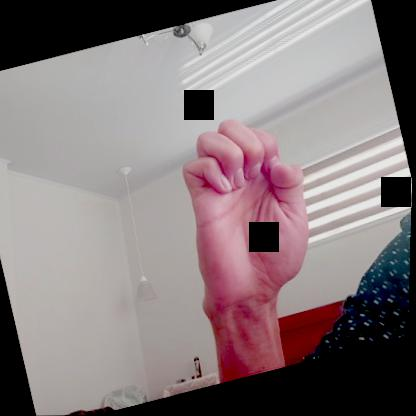E: (159, 103, 331, 311)
